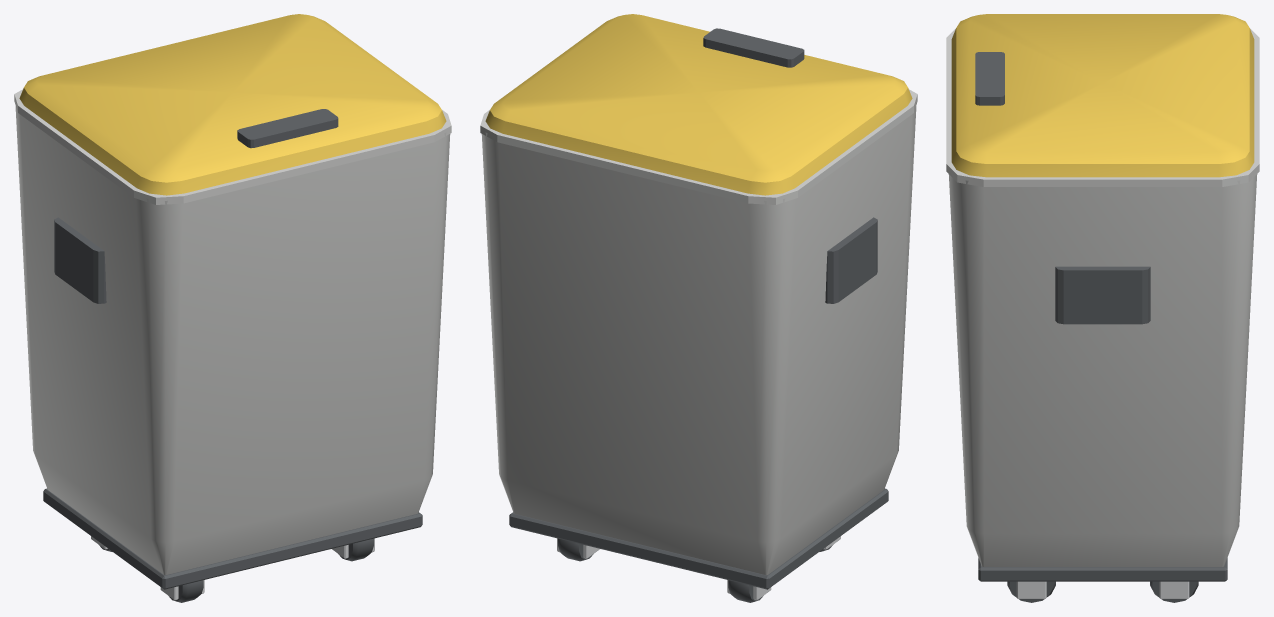
The model's file is wheeled-laundry-hamper.glb.
3 renders of one model, left to right at view 1: azimuth 30°, elevation 25°; view 2: azimuth 150°, elevation 25°; view 3: azimuth 270°, elevation 25°, orthographic. The views are drawn at different scales.
Visible parts, largest first — view 1: wheeled-hamper, lid/accent, lid/dark; view 2: wheeled-hamper, lid/accent, lid/dark; view 3: wheeled-hamper, lid/accent, lid/dark.
Part boxes in pixels (box(x1,y1,x2,y2)): wheeled-hamper: box(14, 89, 451, 602); lid/accent: box(19, 14, 446, 195); lid/dark: box(237, 109, 338, 148); wheeled-hamper: box(480, 89, 917, 602); lid/accent: box(485, 14, 912, 195); lid/dark: box(703, 28, 804, 67); wheeled-hamper: box(946, 28, 1259, 602); lid/accent: box(951, 14, 1254, 177); lid/dark: box(975, 52, 1004, 105).
Bounding box in the file's own units: 0.634 × 0.896 × 0.527.
